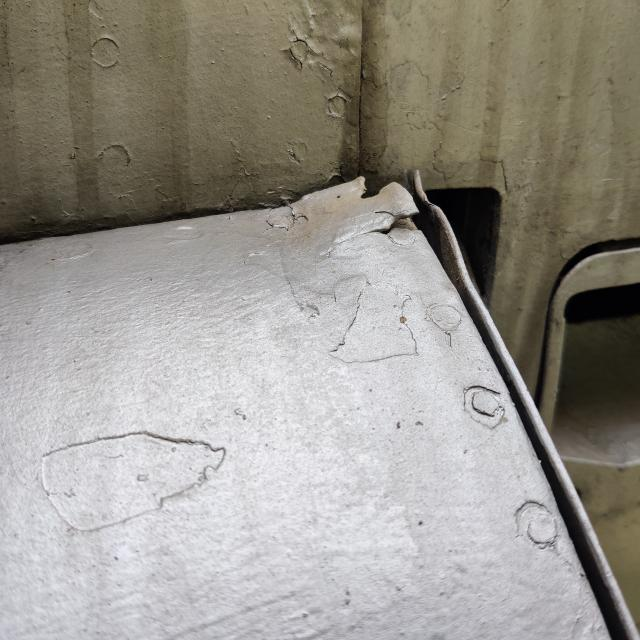crack: (362, 200, 427, 248)
